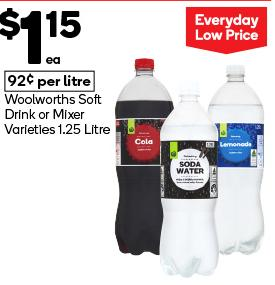description_block: (0, 93, 110, 136)
price_main: (0, 1, 88, 67)
product_image_block: (109, 50, 274, 278)
promo_text_block: (180, 5, 268, 52)
unit_price_block: (2, 70, 102, 92)
